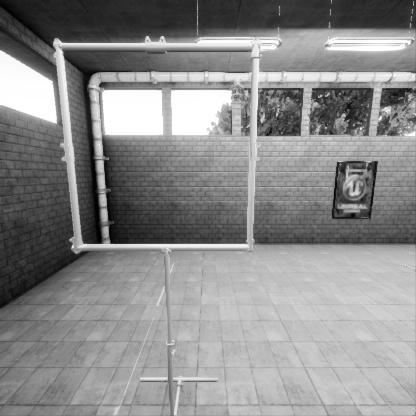gate: (52, 170, 278, 388)
